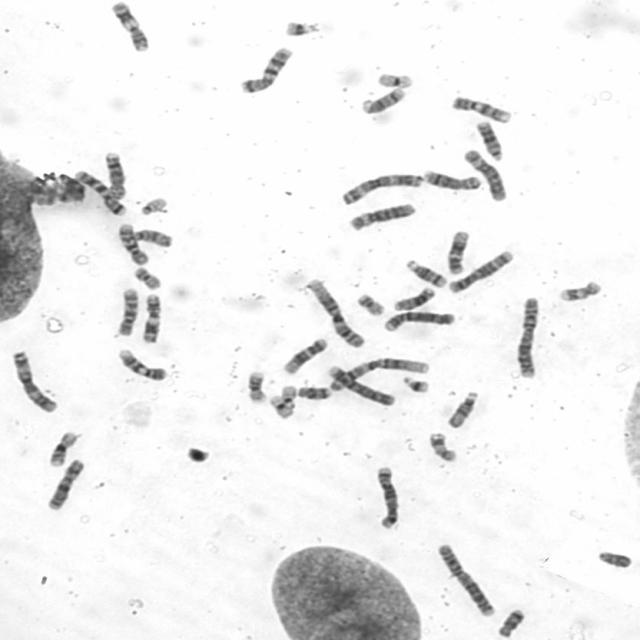A1: (304, 276, 366, 350), (325, 354, 431, 392)
A2: (433, 541, 497, 618), (513, 293, 541, 380)
A3: (337, 170, 425, 207), (9, 348, 59, 413)
B4: (325, 362, 396, 408), (380, 308, 457, 332)
B5: (446, 248, 516, 294), (371, 462, 402, 531)
C10: (115, 220, 150, 267), (115, 286, 139, 338)
C11: (108, 0, 150, 53), (138, 291, 163, 345)
C12: (280, 335, 329, 375), (443, 228, 472, 276)
C6: (462, 146, 508, 202), (346, 201, 418, 232)
C7: (236, 44, 293, 94), (73, 168, 128, 216)
C8: (421, 167, 483, 191), (100, 149, 127, 202)
C9: (448, 93, 512, 124), (116, 346, 168, 382)
D13: (473, 118, 505, 162), (391, 285, 436, 312)
D14: (358, 85, 407, 115), (404, 257, 449, 288)
D15: (444, 389, 479, 429), (130, 227, 173, 248)
E16: (46, 428, 82, 468), (244, 368, 268, 403)
E17: (556, 278, 602, 302), (426, 430, 458, 462)
E18: (495, 606, 527, 638), (295, 383, 332, 401)
F19: (374, 69, 415, 89), (268, 392, 296, 419)
F20: (131, 264, 164, 290), (354, 290, 387, 316)
G21: (282, 17, 321, 38), (400, 373, 431, 394)
G22: (138, 195, 168, 216), (278, 384, 299, 409)
X: (44, 457, 87, 511)
Y: (594, 548, 633, 569)
